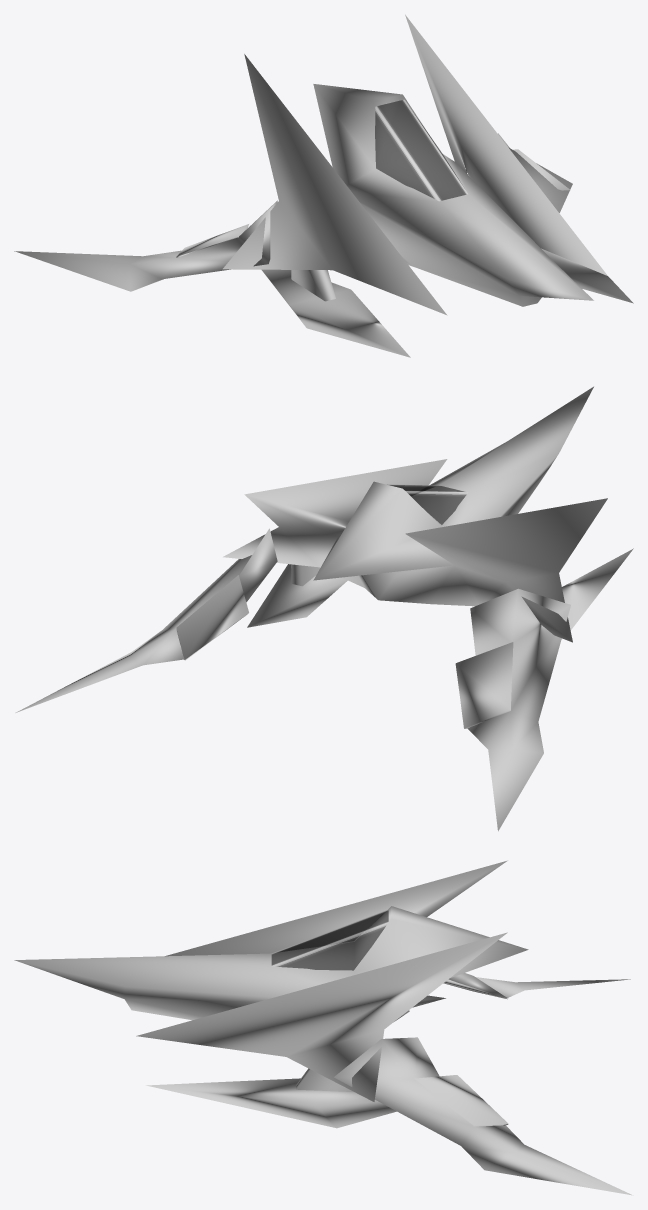
The model's file is arwingNew46.obj.
The picture shows the model from 3 angles, top to bottom: view 1: azimuth 30°, elevation 25°; view 2: azimuth 150°, elevation 25°; view 3: azimuth 270°, elevation 25°; orthographic projection. The views are drawn at different scales.
Visible parts, largest first — view 1: Arwing.002; view 2: Arwing.002; view 3: Arwing.002.
Boxes of the visible parts, x1,y1,x2,y2 form: Arwing.002: (14, 14, 633, 357); Arwing.002: (15, 386, 633, 831); Arwing.002: (14, 860, 633, 1195).
Size of the model in its own units: 5.22 by 2.15 by 6.32.
